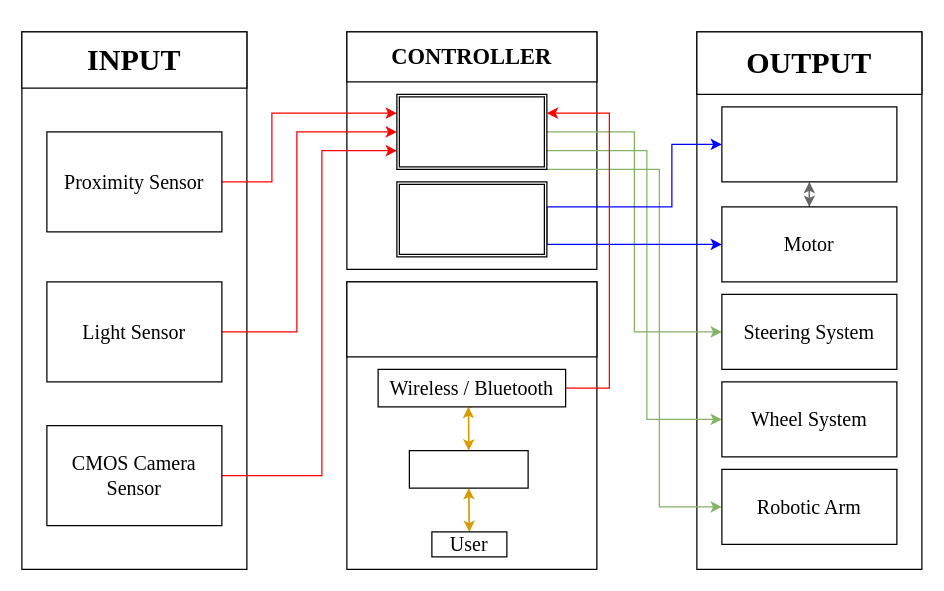
Image size: 944x591. Some labels were removed from this diagram. Each missing label, with the box of its shape:
Arduino: (396, 181, 547, 257)
COMMUNICATION: (346, 281, 597, 357)
Motor Shield: (721, 106, 897, 182)
Raspberry Pi 3 Maxi: (396, 93, 547, 169)
Server: (408, 449, 528, 488)
